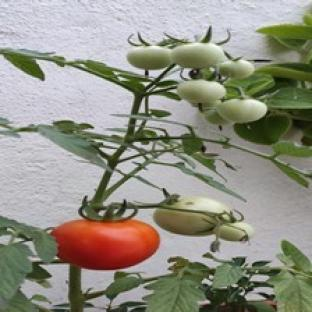Tomato: (52, 219, 160, 270), (154, 197, 229, 235), (172, 42, 225, 69), (216, 98, 267, 122), (177, 80, 225, 104), (127, 46, 172, 69), (218, 222, 254, 240), (219, 59, 254, 77), (204, 108, 229, 125)
